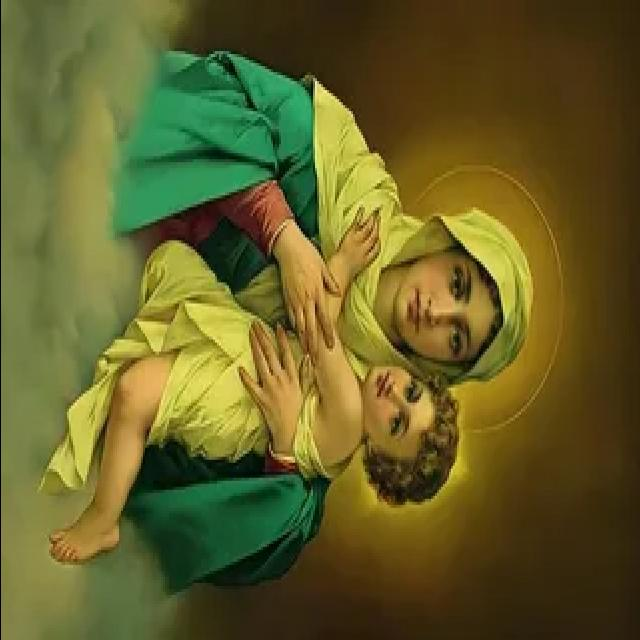mother of god: (46, 30, 542, 609)
